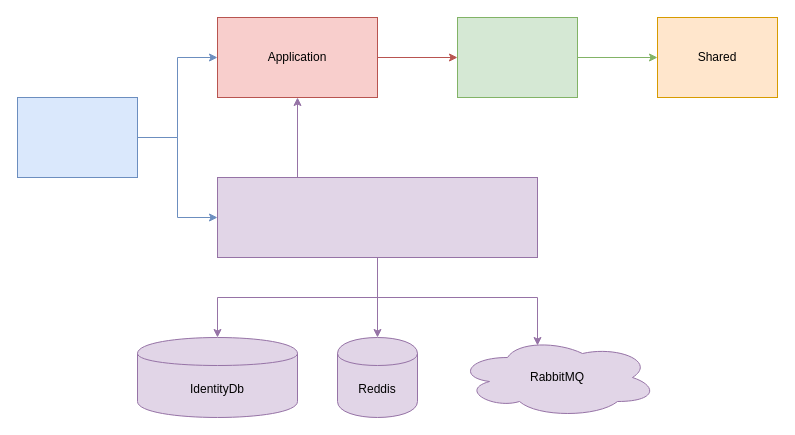
The diagram is 795 pixels wide and 435 high, and some of its shapes have lost their labels. The centre of each missing label's shape, as x and y in pixels:
"Domain" goes at point 517,57.
"Infrastructure" goes at point 377,217.
"WEB API" goes at point 77,137.
